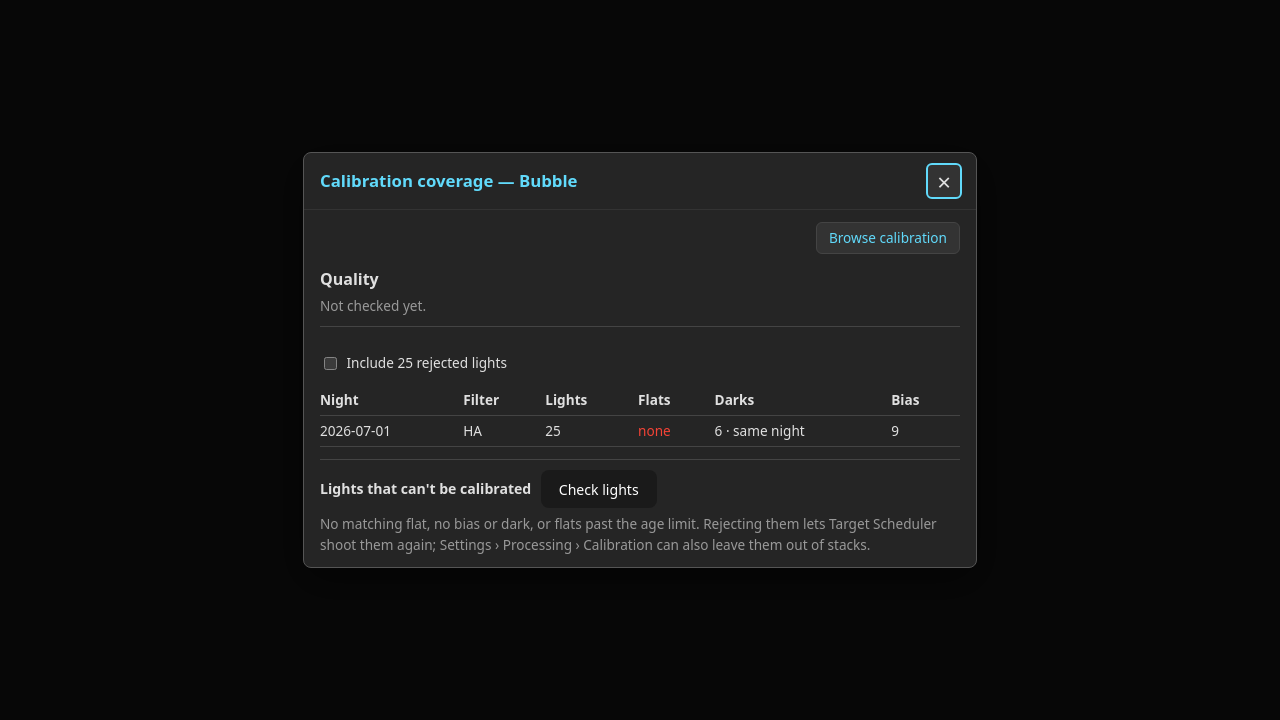
it: CalibrationReportDialog › leaves rejected lights out until asked to include them
The width and height of the screenshot is (1280, 720).
Expected: the text "2026-07-01" is shown, x1=320 y1=416 x2=463 y2=446
Expected: the text "2026-07-02" is not shown
Click the checkbox labelled "Include 25 rejected lights" at (330, 363), box x1=324 y1=356 x2=337 y2=370
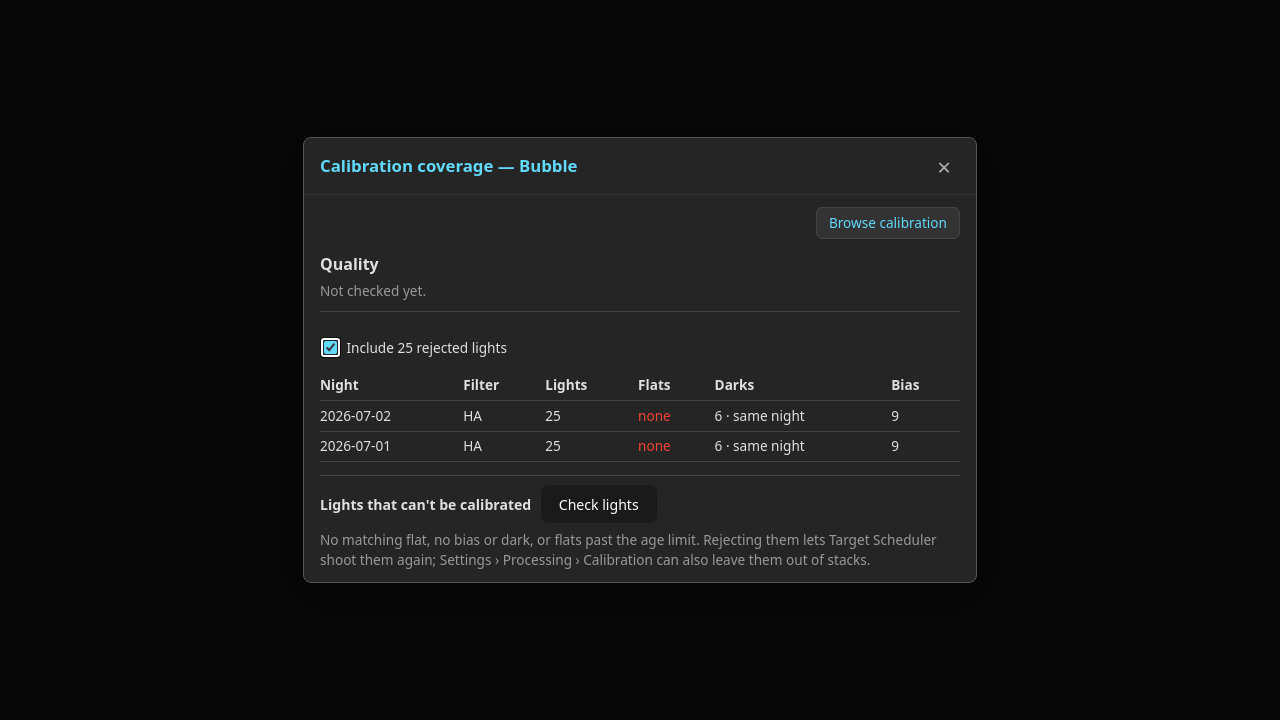
Expected: the text "2026-07-02" is shown, x1=320 y1=401 x2=463 y2=431
